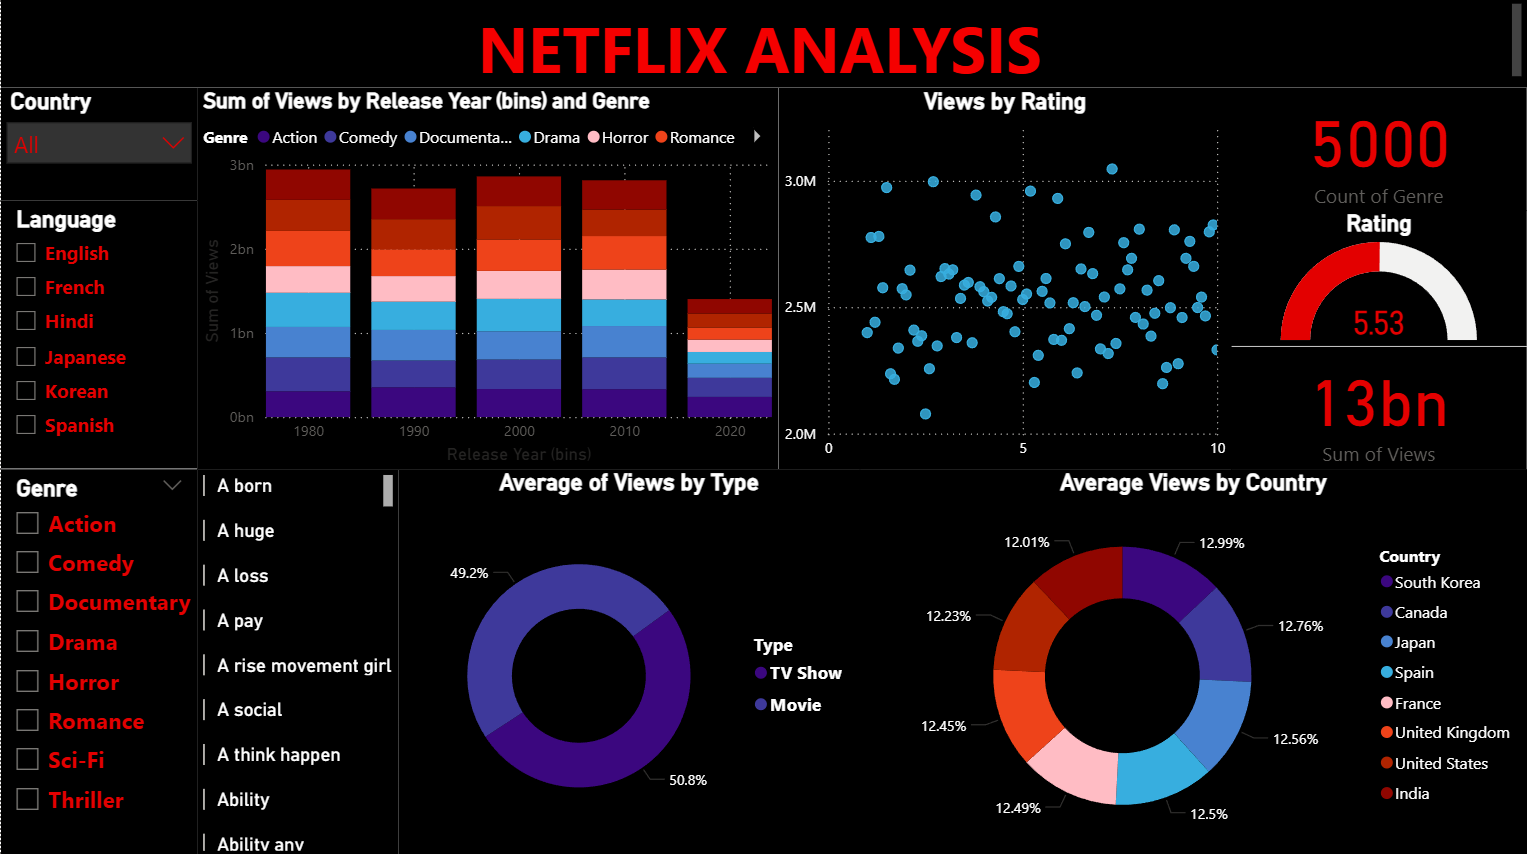

The dashboard page shown, as its layout file describes it:
{"tool":"powerbi","page":{"name":"Page 2","canvas":[1280,720],"ordinal":1},"visuals":[{"type":"slicer","fields":{"Values":["Sheet1.Genre"]},"box":[0,395.2,164.7,325.2],"z":0},{"type":"slicer","fields":{"Values":["Sheet1.Country"]},"box":[0,75.5,164.7,94.7],"z":1000},{"type":"slicer","fields":{"Values":["Sheet1.Language"]},"box":[0,170.2,164.7,225],"z":2000},{"type":"textbox","box":[0,0,1280.3,75.5],"z":3000},{"type":"card","title":"Views","fields":{"Values":["Sum(Sheet1.Views)"]},"box":[1031.4,291.9,248.8,103.5],"z":4000},{"type":"columnChart","fields":{"Y":["Sum(Sheet1.Views)"],"Series":["Sheet1.Genre"],"Category":["Sheet1.Release Year (bins)","Sheet1.Genre"]},"box":[164.7,75.5,487.1,319.7],"z":5000},{"type":"gauge","title":"Rating","fields":{"Y":["Avg(Sheet1.IMDb Score)"],"MinValue":["Min(Sheet1.IMDb Score)"],"MaxValue":["Max(Sheet1.IMDb Score)"]},"box":[1031.9,178.4,248.4,113.9],"z":6000},{"type":"multiRowCard","fields":{"Values":["Sheet1.Title"]},"box":[164.7,395.2,168.8,325.2],"z":7000},{"type":"donutChart","title":"Average Views by Country","fields":{"Category":["Sheet1.Country"],"Y":["Avg(Sheet1.Views)"]},"box":[720.4,395.2,559.9,325.2],"z":8000},{"type":"donutChart","fields":{"Category":["Sheet1.Type"],"Y":["Avg(Sheet1.Views)"]},"box":[333.4,395.2,387,325.2],"z":9000},{"type":"card","fields":{"Values":["CountNonNull(Sheet1.Genre)"]},"box":[1031.9,75.5,248.4,102.9],"z":10000},{"type":"scatterChart","title":"Views by Rating","fields":{"X":["Sheet1.IMDb Score"],"Y":["Avg(Sheet1.Views)"]},"box":[652.3,74.4,380.2,320.9],"z":11000}]}

Visuals, with their boxes in screenshot pixels (x1, y1, x2, y2), scaled from the page's 1280x720 canvas onto the 1527x854 screenshot:
slicer - Sheet1.Genre: 0, 469, 196, 853
slicer - Sheet1.Country: 0, 90, 196, 202
slicer - Sheet1.Language: 0, 202, 196, 469
textbox: 0, 0, 1526, 90
"Views" card: 1230, 346, 1526, 469
columnChart - Sum(Sheet1.Views) x Sheet1.Genre: 196, 90, 778, 469
"Rating" gauge: 1231, 212, 1526, 347
multiRowCard - Sheet1.Title: 196, 469, 398, 853
"Average Views by Country" donutChart: 859, 469, 1526, 853
donutChart - Sheet1.Type x Avg(Sheet1.Views): 398, 469, 859, 853
card - CountNonNull(Sheet1.Genre): 1231, 90, 1526, 212
"Views by Rating" scatterChart: 778, 88, 1232, 469
